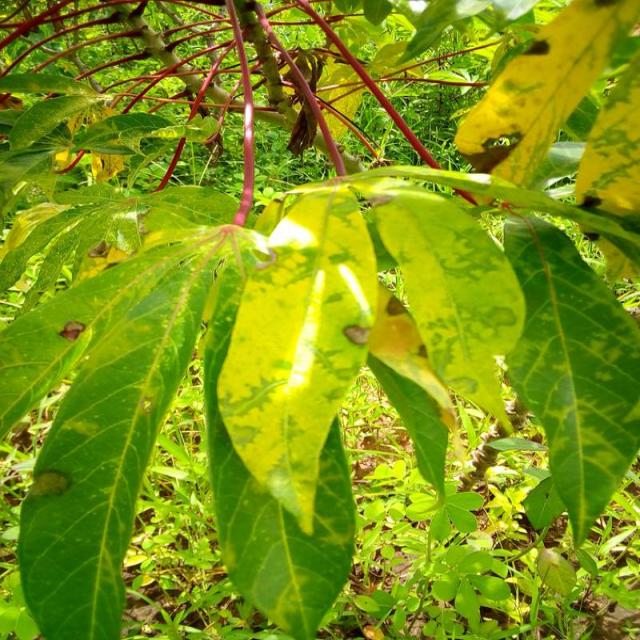cassava leaf: (202, 182, 381, 637), (502, 212, 640, 553), (368, 184, 528, 433), (454, 0, 640, 204)
